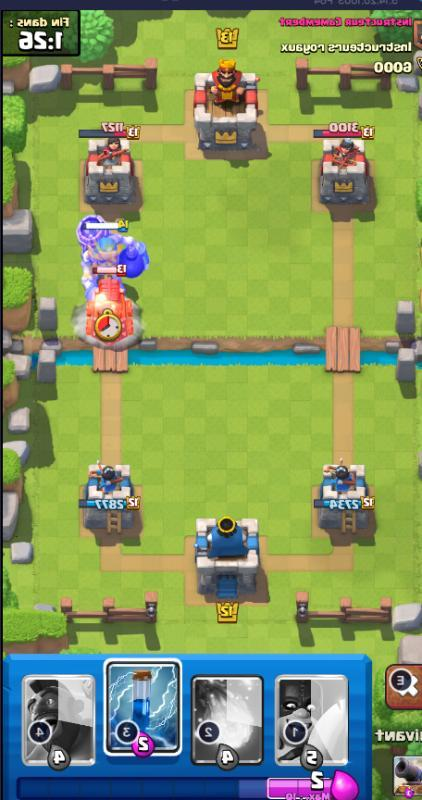enemy_sparky: (78, 273, 139, 348)
player_giant_skeleton: (68, 211, 156, 300)
